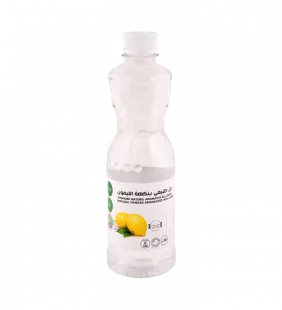TOUS LES JOURS: (99, 20, 181, 284)
